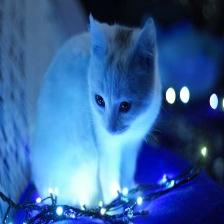kedo: (30, 14, 161, 212)
